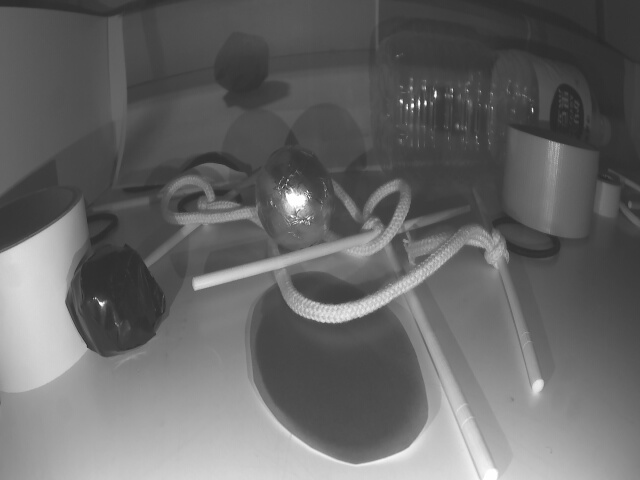Dead: (65, 248, 167, 358)
Live: (257, 147, 335, 249)
